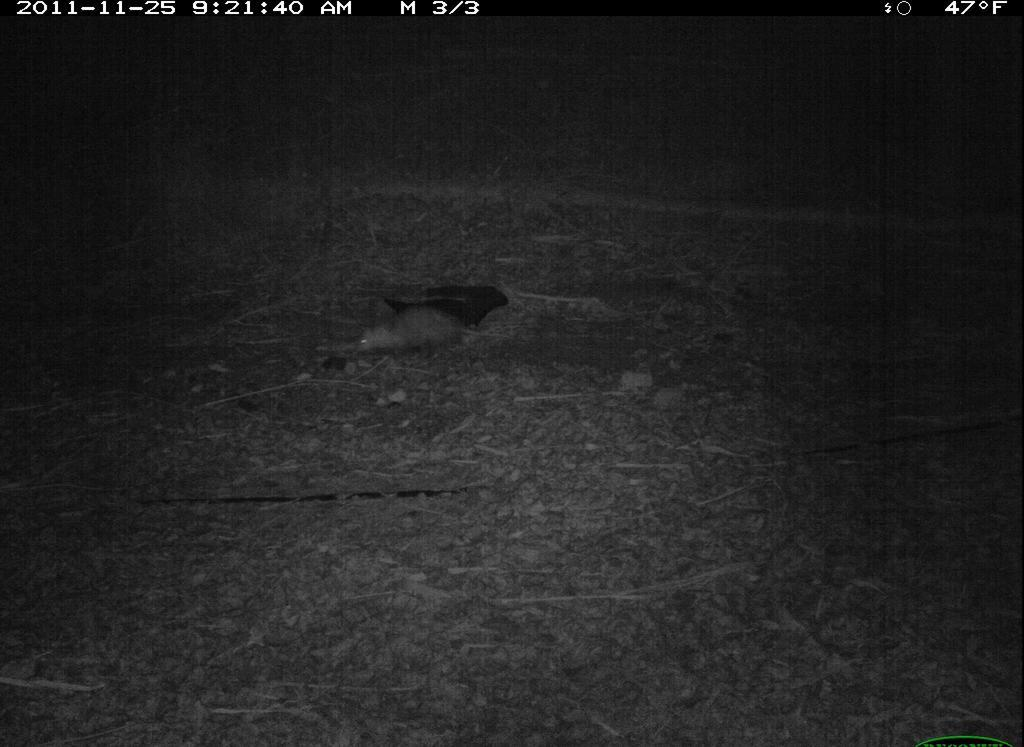opossum: (345, 300, 519, 367)
